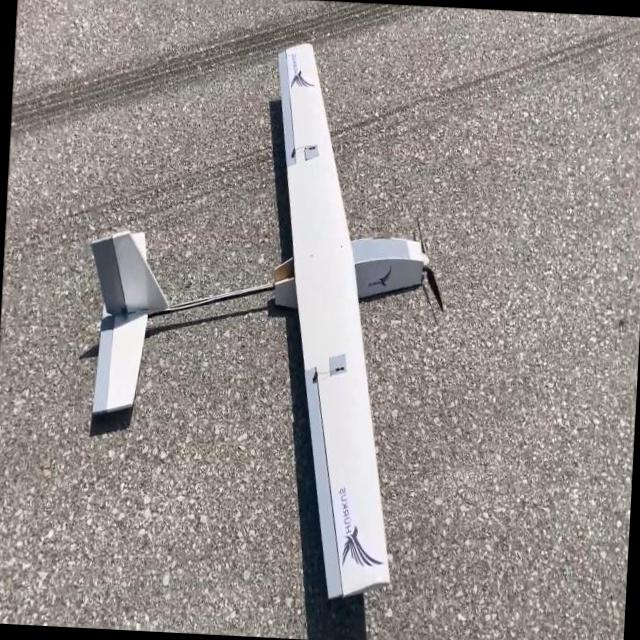UAV: (58, 21, 484, 580)
